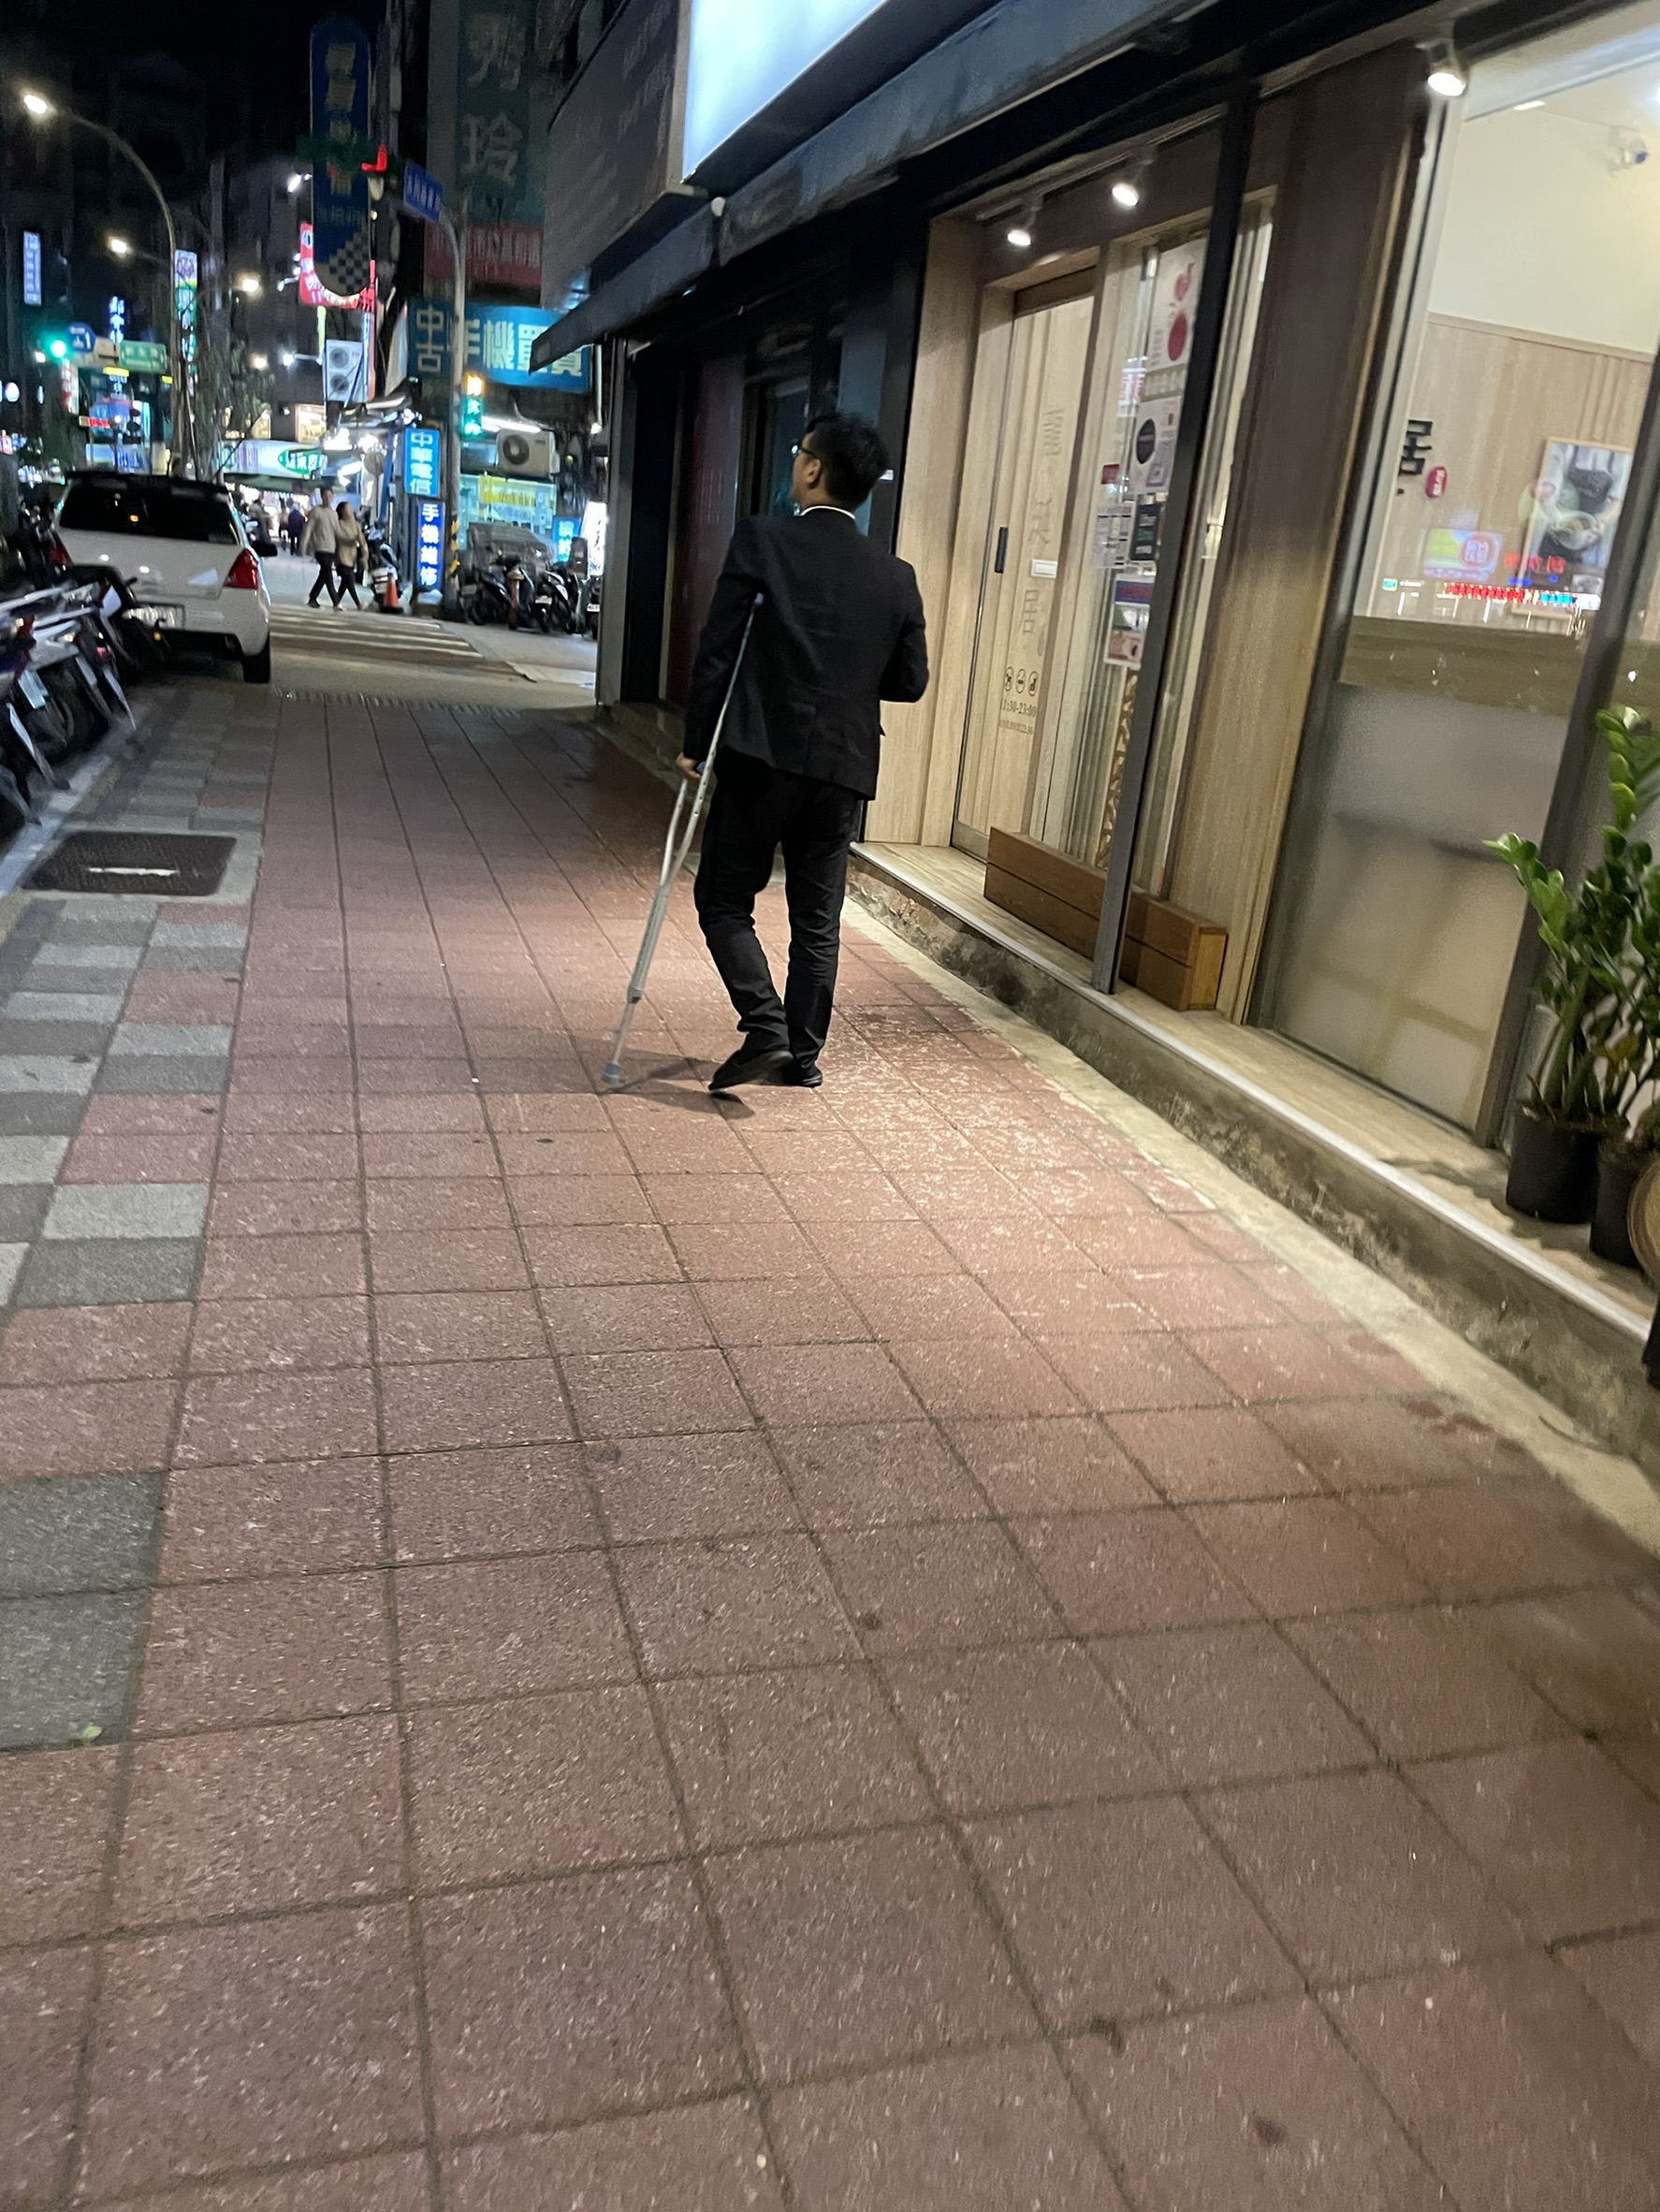people: (677, 419, 932, 1089), (299, 488, 338, 604), (334, 495, 359, 604)
